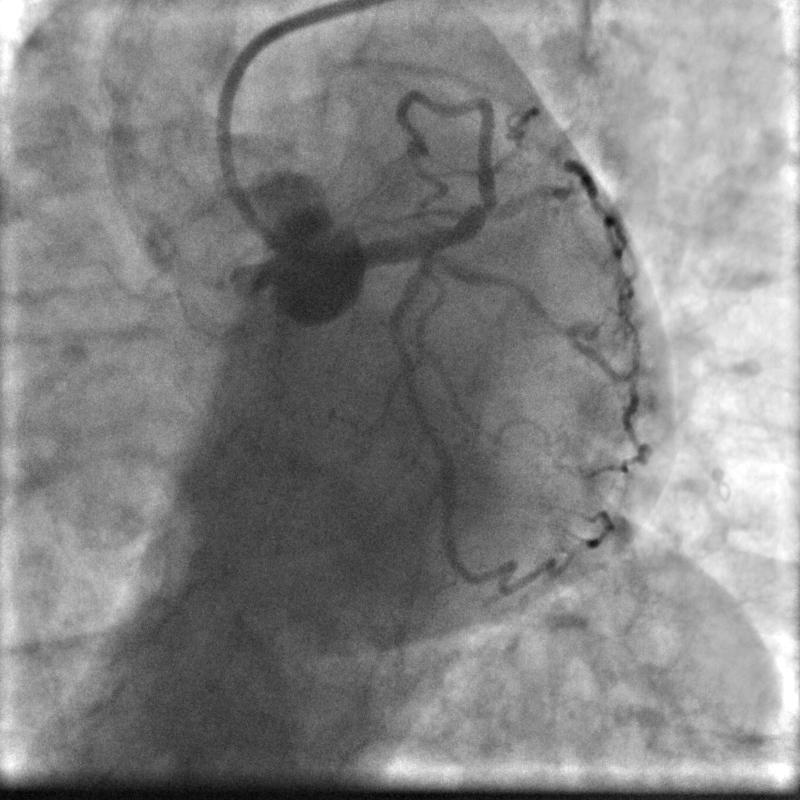Stenosis: (389, 319, 409, 362)
